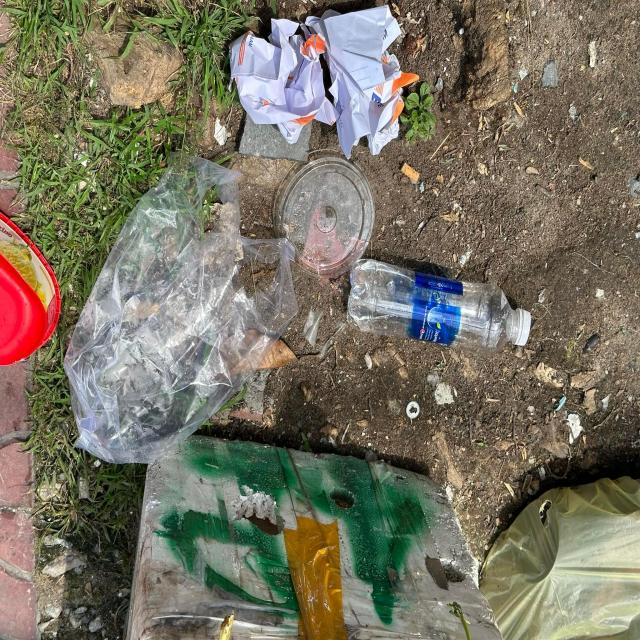bag: (64, 152, 300, 465)
bottle: (347, 258, 532, 355)
lid: (272, 147, 376, 279)
paper: (228, 3, 420, 162)
trash bag: (479, 472, 640, 640)
